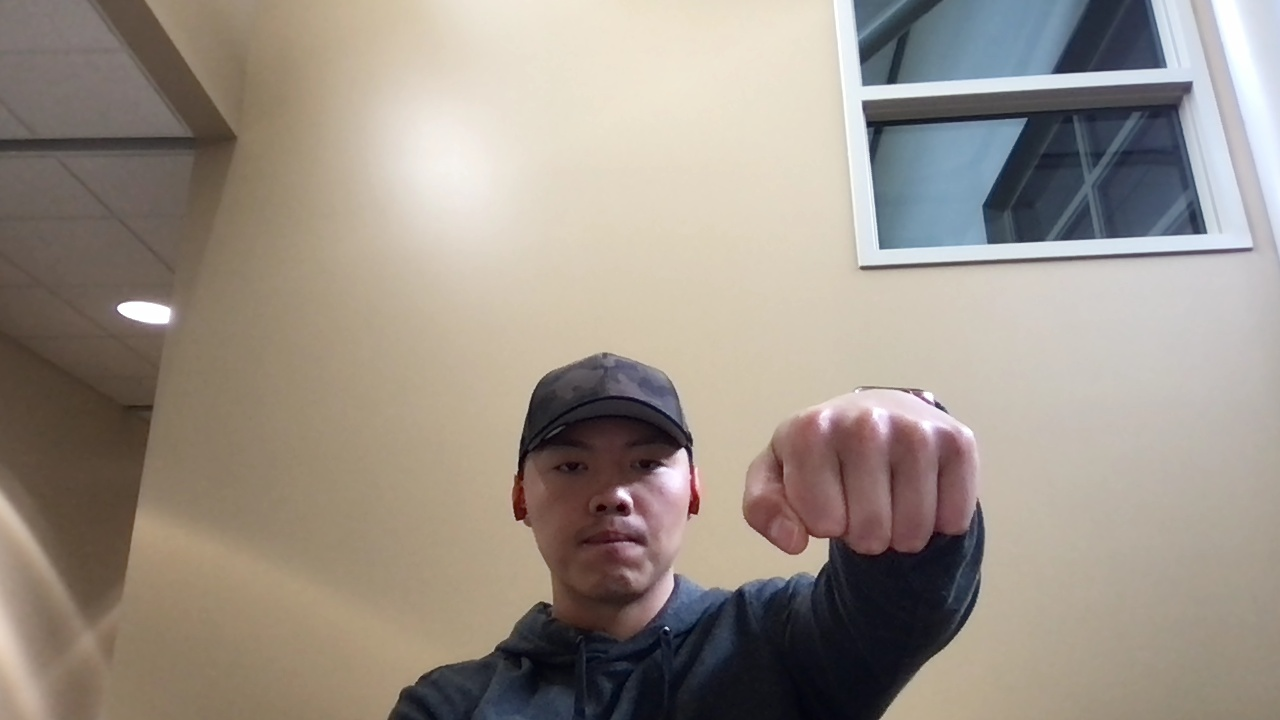Yes: (734, 386, 1000, 565)
